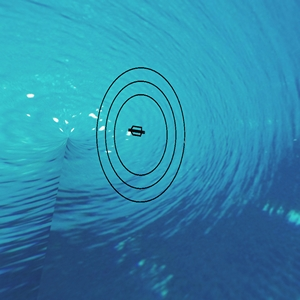circle: (93, 60, 195, 211)
submarine: (130, 122, 144, 137)
